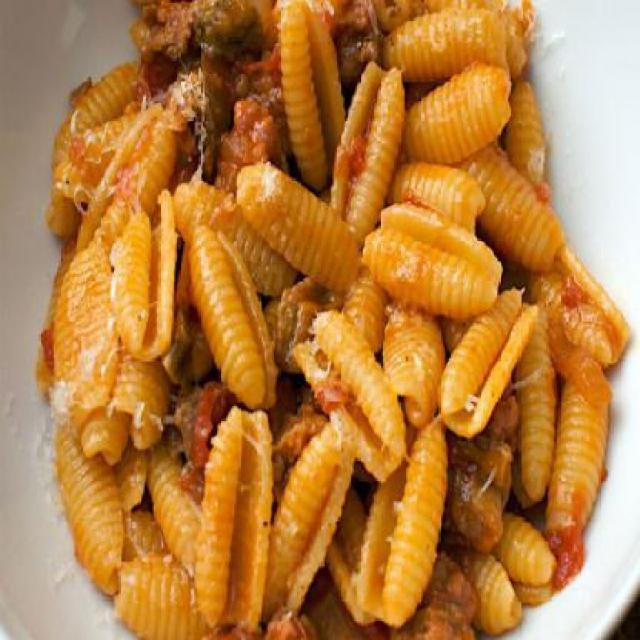Pasta al ragu: (49, 11, 618, 612)
